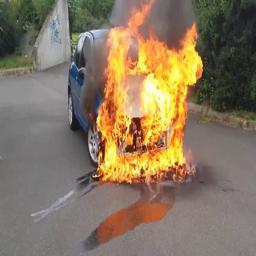fire: (95, 0, 205, 181)
